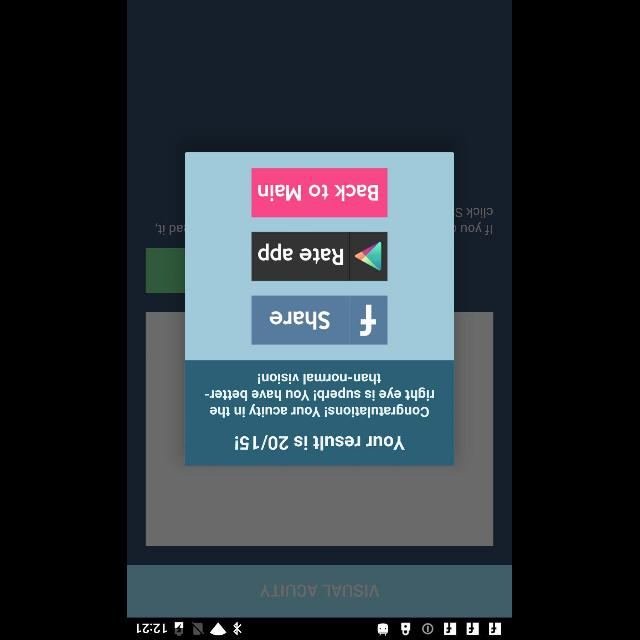panel: (185, 152, 455, 466)
text: (206, 373, 434, 417), (235, 436, 405, 450), (261, 584, 381, 596)
textbutton: (252, 168, 388, 216), (252, 232, 388, 280), (252, 296, 388, 344)
uppertaskbar: (128, 617, 512, 639)
